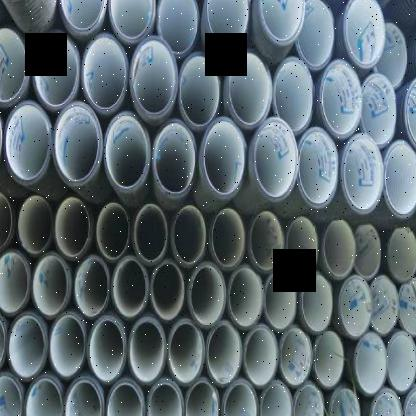pipe: (51, 102, 102, 186), (130, 36, 178, 121), (3, 100, 51, 184), (103, 111, 151, 194), (81, 33, 129, 113), (200, 117, 247, 198), (32, 30, 79, 109), (253, 116, 297, 200), (320, 60, 363, 139), (152, 121, 196, 197), (297, 127, 338, 208), (343, 136, 385, 213), (229, 51, 272, 125), (273, 58, 314, 134), (178, 55, 220, 128), (359, 73, 397, 148), (296, 0, 336, 70), (344, 0, 385, 68), (8, 313, 48, 381), (31, 251, 70, 320), (88, 315, 126, 385), (48, 312, 86, 380), (128, 317, 166, 385), (383, 141, 416, 218), (110, 256, 149, 320), (71, 256, 110, 319), (156, 0, 199, 56), (189, 263, 226, 328), (168, 320, 205, 385), (0, 26, 30, 105), (228, 265, 263, 331), (373, 21, 408, 87), (210, 207, 246, 271), (204, 0, 250, 50), (248, 210, 285, 272), (206, 324, 242, 386), (54, 197, 90, 258), (339, 275, 373, 338), (244, 326, 279, 387), (17, 194, 53, 253), (285, 215, 319, 277), (172, 205, 207, 265), (323, 217, 357, 278), (354, 332, 387, 394), (133, 203, 167, 263), (263, 271, 297, 331), (258, 0, 303, 45), (300, 273, 334, 332), (151, 262, 186, 319), (280, 327, 313, 387), (108, 0, 154, 43), (0, 249, 30, 314), (96, 201, 129, 260), (369, 275, 399, 336), (386, 332, 416, 393), (62, 374, 104, 416), (312, 332, 344, 387), (56, 0, 106, 35), (352, 223, 382, 280), (386, 225, 416, 282), (24, 374, 63, 416), (103, 378, 144, 416), (145, 377, 183, 416), (184, 379, 221, 416), (222, 380, 258, 416), (259, 382, 293, 416), (397, 277, 416, 335), (0, 372, 24, 416), (292, 383, 323, 416), (370, 386, 401, 416), (329, 388, 359, 416), (0, 192, 13, 250), (404, 383, 416, 416)
